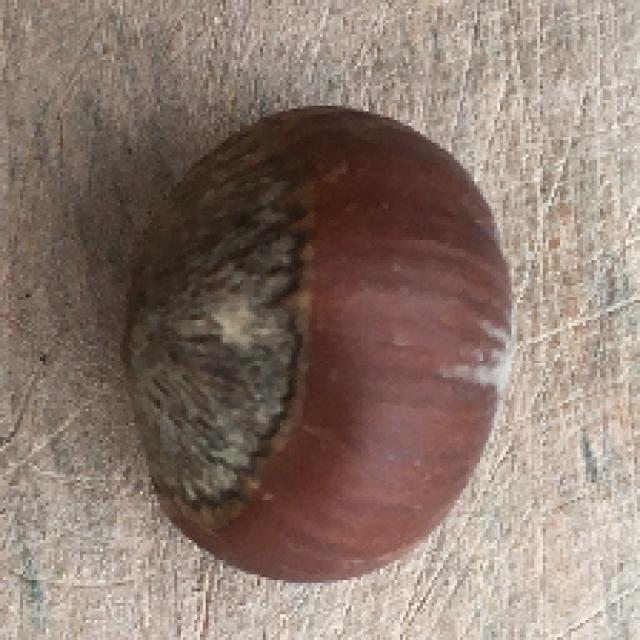DamagedHazelnut: (121, 109, 509, 586)
